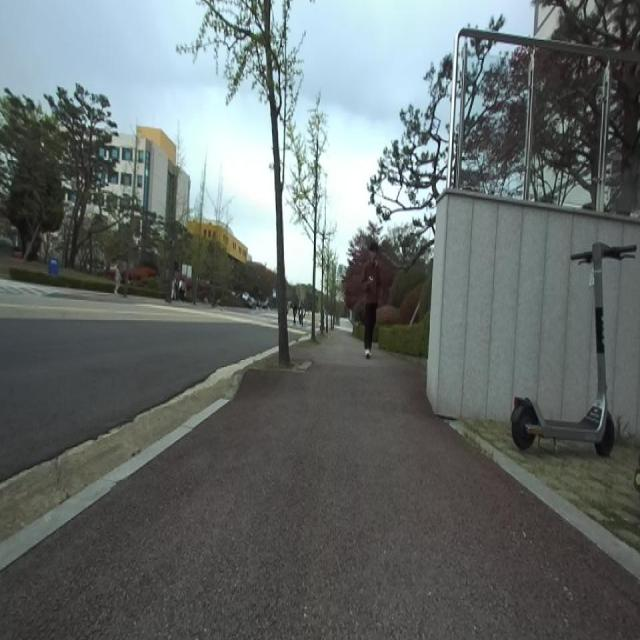sidewalk: (0, 330, 640, 639), (0, 399, 228, 570)
